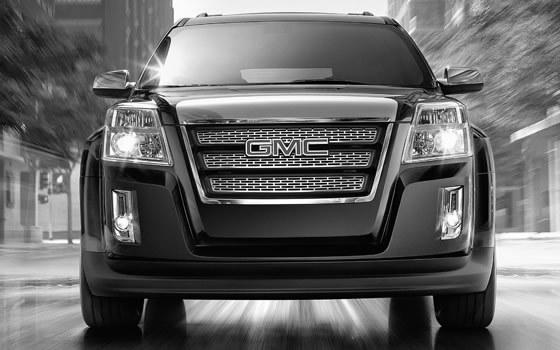car: (77, 14, 497, 332)
